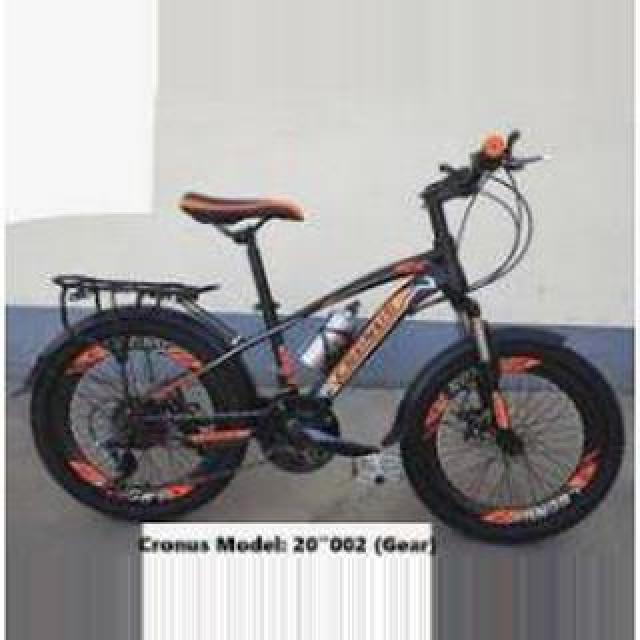Person: (27, 125, 627, 549)
